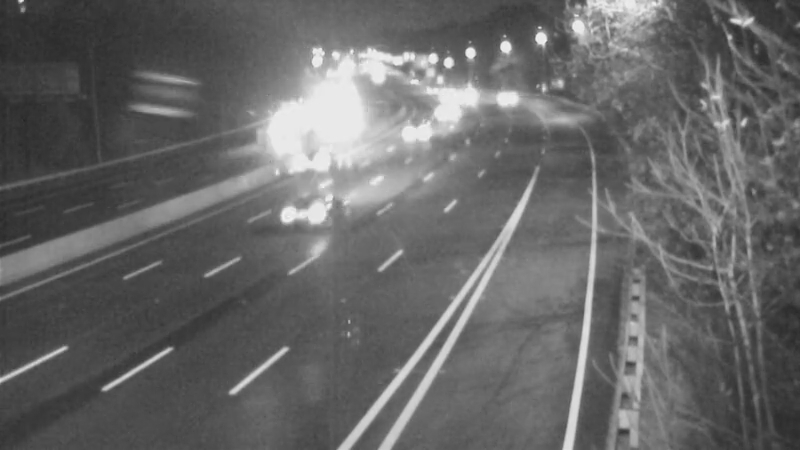vehicle: (265, 127, 345, 207), (256, 169, 336, 249), (483, 67, 533, 117), (441, 73, 491, 123), (427, 88, 477, 138), (393, 115, 443, 165), (247, 112, 297, 162)
